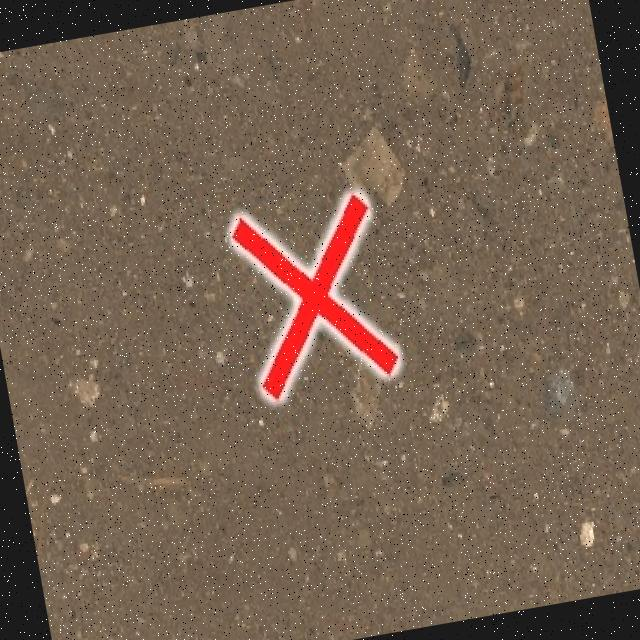x_marker: (228, 191, 400, 399)
